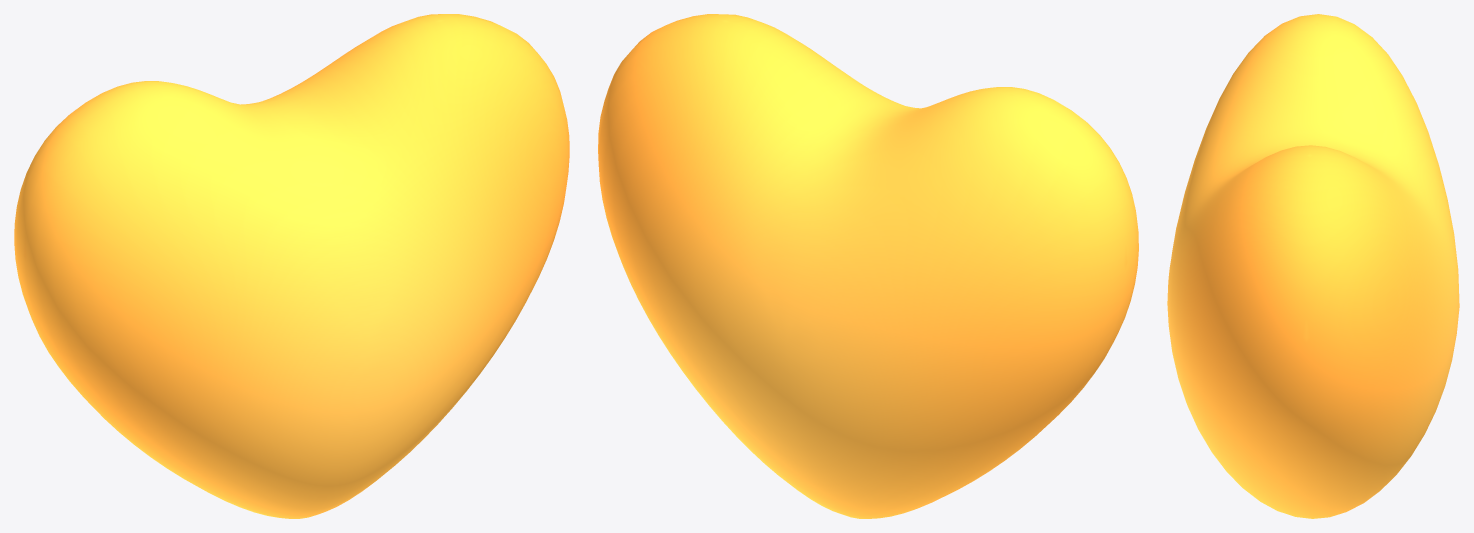
The model's file is heart-crystal-v21-yellow.glb.
3 renders of one model, left to right at view 1: azimuth 30°, elevation 25°; view 2: azimuth 150°, elevation 25°; view 3: azimuth 270°, elevation 25°, orthographic. The views are drawn at different scales.
Parts seen in each view (by area): view 1: Heart_Glass; view 2: Heart_Glass; view 3: Heart_Glass.
Boxes of the visible parts, <box> form: Heart_Glass: <box>14,14,569,518</box>; Heart_Glass: <box>598,14,1138,518</box>; Heart_Glass: <box>1167,14,1459,518</box>.
Size of the model in its own units: 0.08 by 0.0665 by 0.0416.
1 material, 1 textured.
